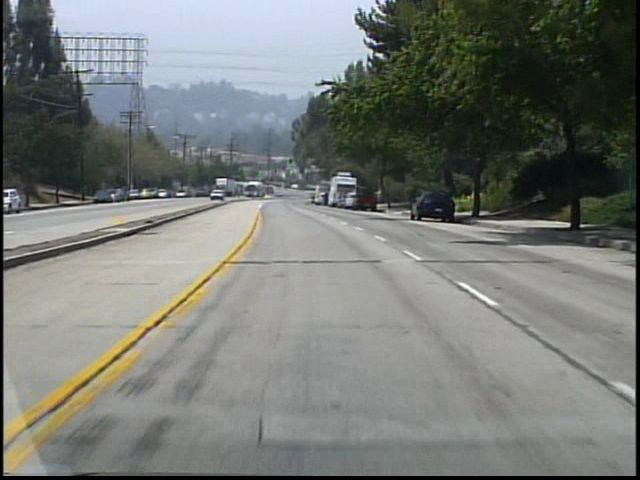person: (373, 183, 385, 209)
